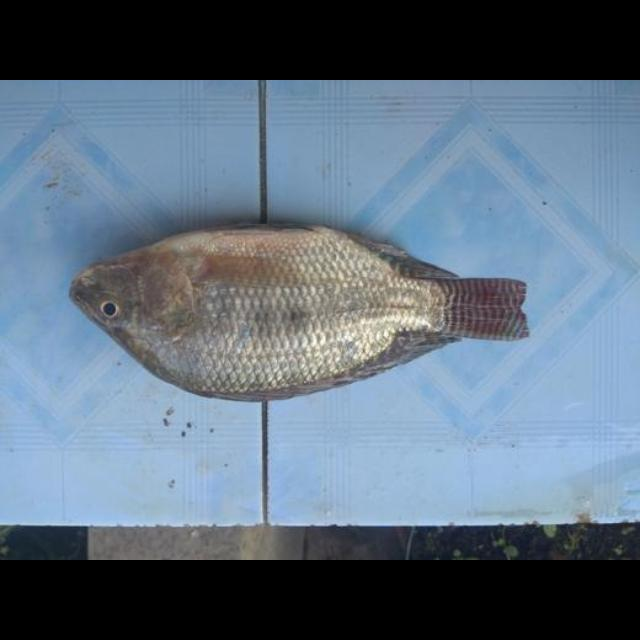Tilapia: (62, 219, 536, 401)
